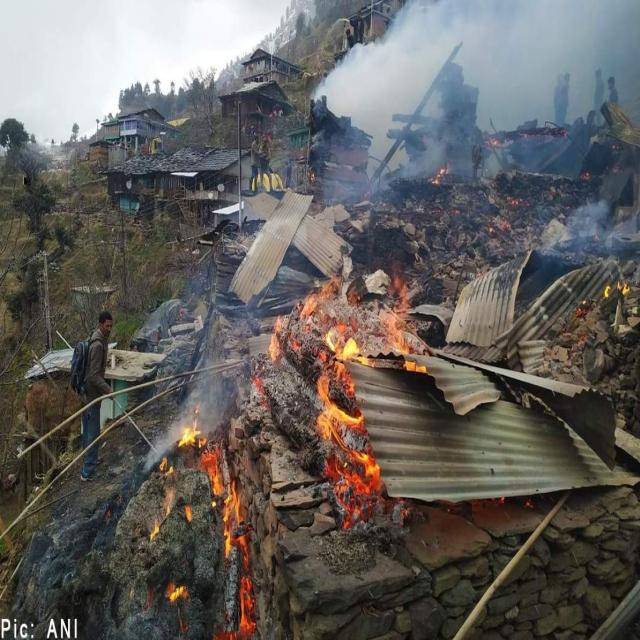fire: (200, 446, 260, 640), (321, 352, 386, 520), (388, 279, 425, 373), (174, 416, 200, 447)
smoke: (338, 3, 637, 174), (549, 202, 639, 269)
